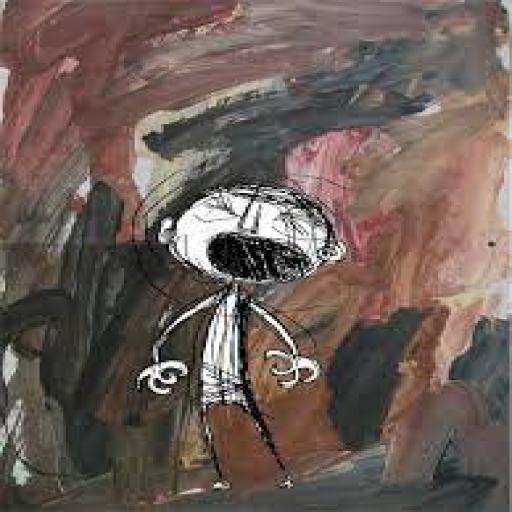person: (134, 162, 366, 501)
